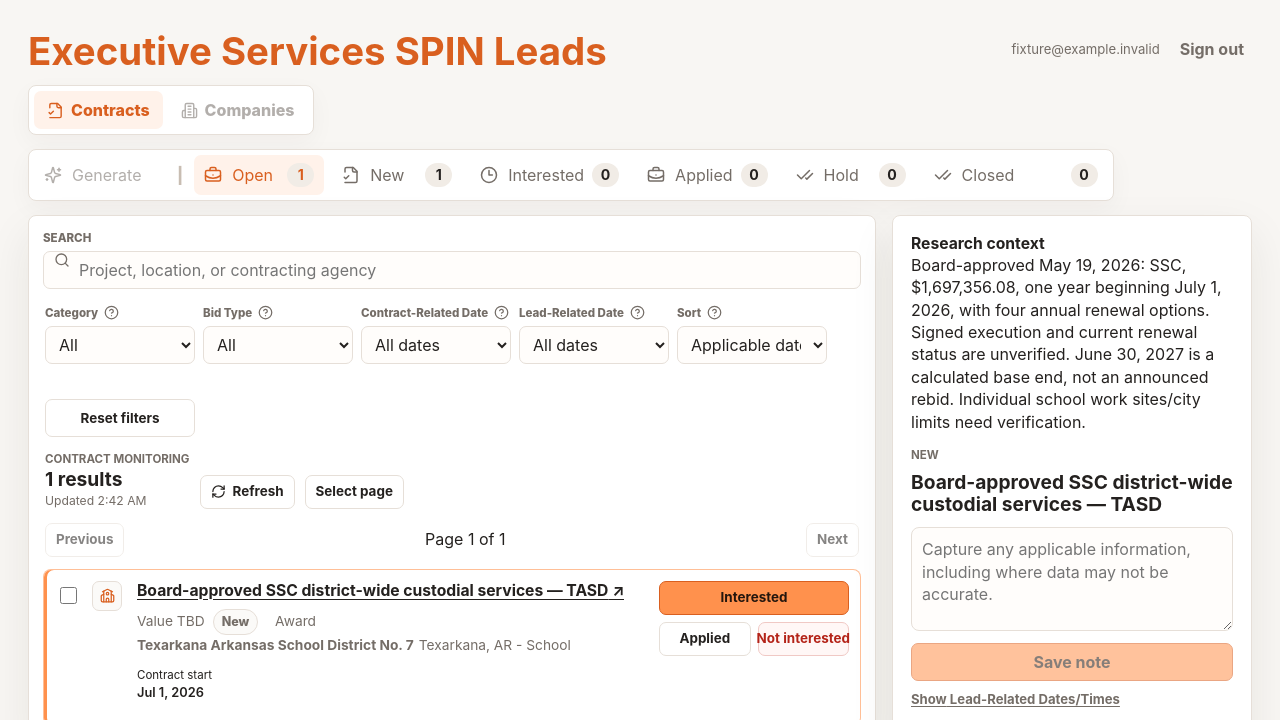
a pending note save does not clear a newer draft
expect the element "Research context" is shown: met, box [911,234,1233,433]
Replace the text in the text box with placeholder "Capture any applicable information, including where data may not be accurate." with "Submitted draft": x=1072, y=579 [911,527,1233,631]
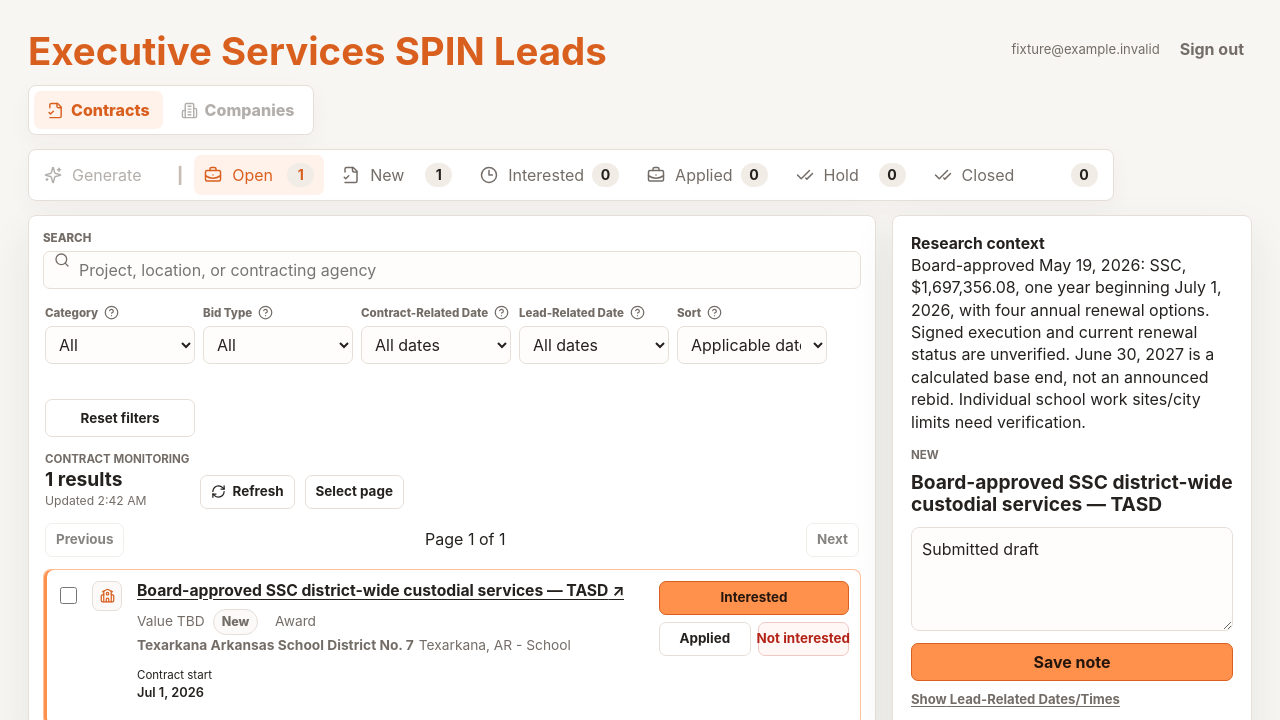
Click the button "Save note": x=1072, y=662 [911,643,1233,681]
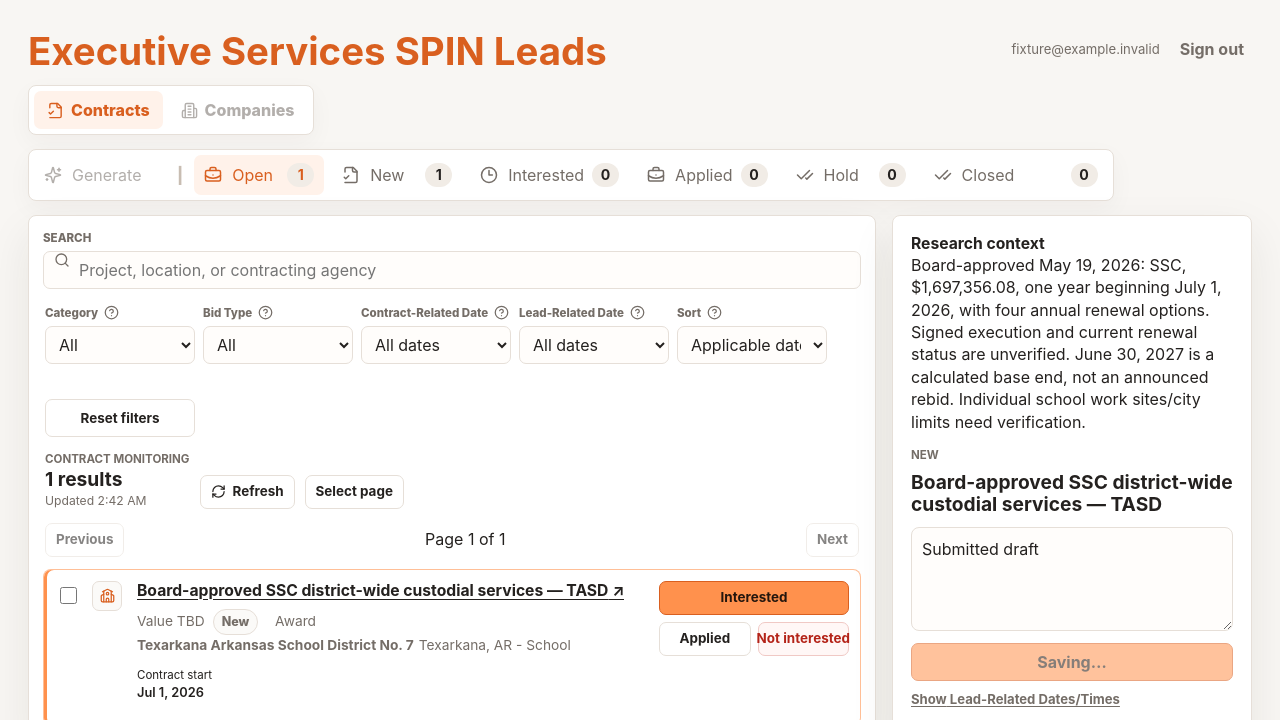
Replace the text in the text box with placeholder "Capture any applicable information, including where data may not be accurate." with "New draft": x=1072, y=579 [911,527,1233,631]
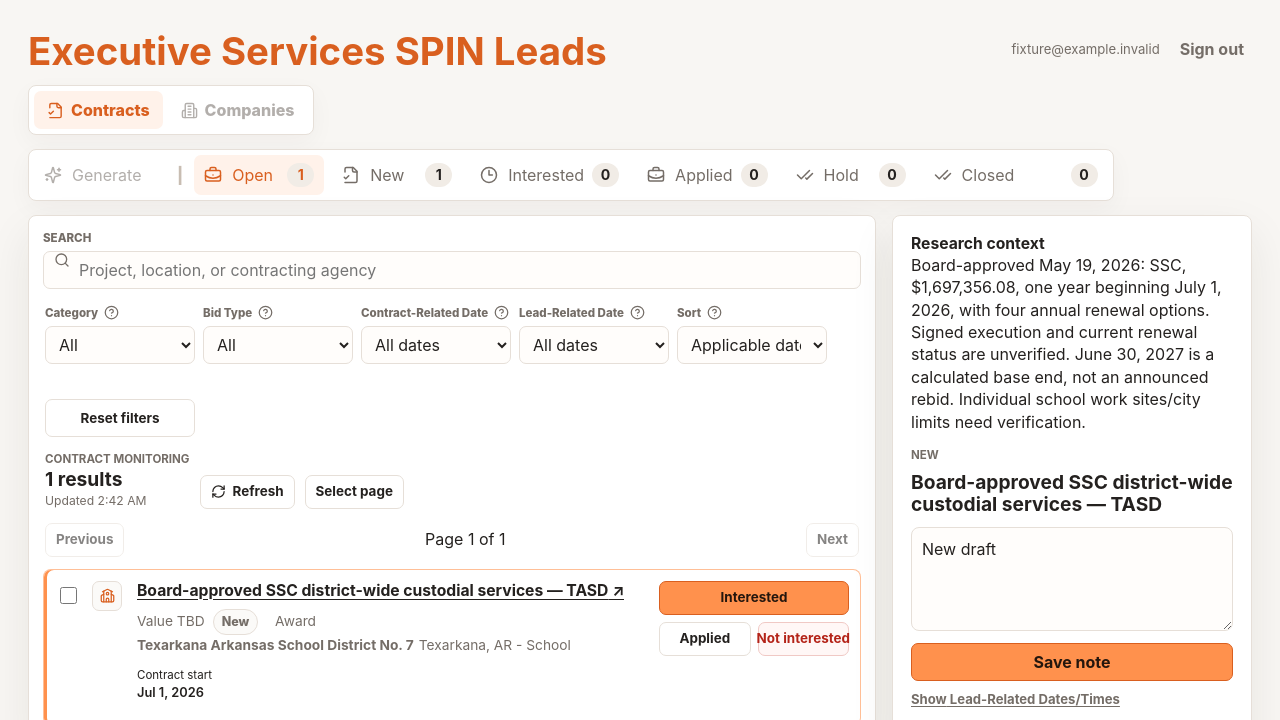
expect the button "Save note" is shown: met, box [911,643,1233,681]
